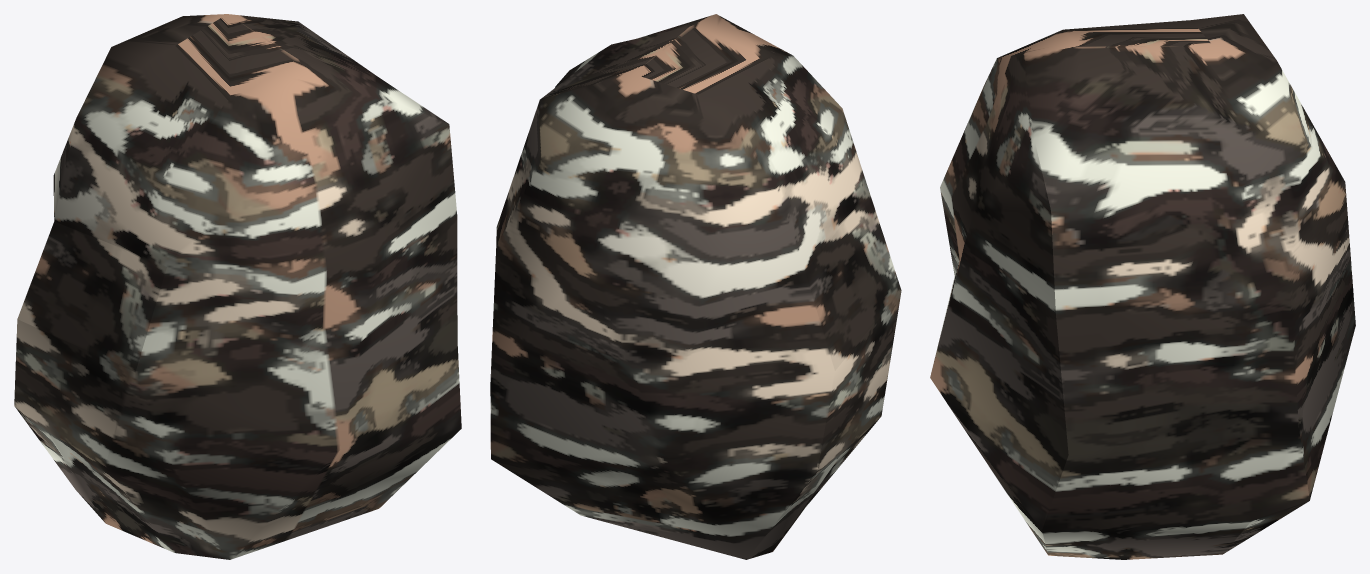
Rendered from Meteo-kid.fbx.
The picture shows the model from 3 angles, left to right: view 1: azimuth 30°, elevation 25°; view 2: azimuth 150°, elevation 25°; view 3: azimuth 270°, elevation 25°; orthographic projection. The views are drawn at different scales.
Parts seen in each view (by area): view 1: obj1; view 2: obj1; view 3: obj1.
Part boxes in pixels (<box>): obj1: <box>14,14,461,559</box>; obj1: <box>490,14,901,559</box>; obj1: <box>930,14,1355,559</box>.
Bounding box in the file's own units: 471 × 572 × 451.
Materials: 1 (1 with a texture image).
